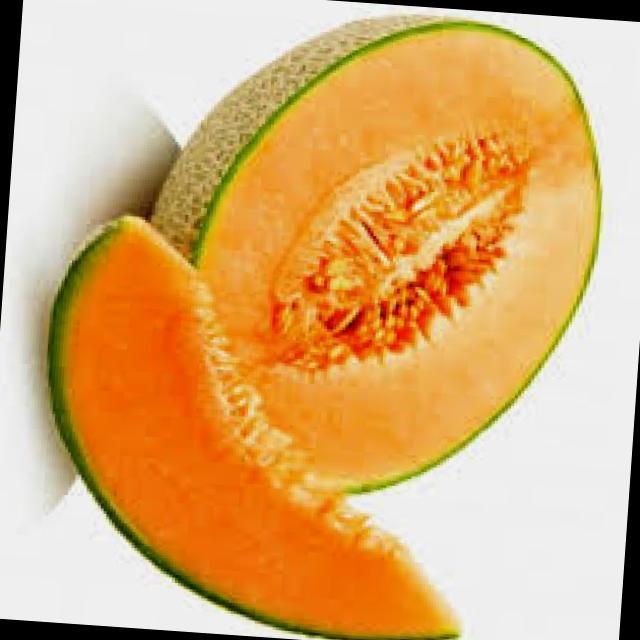cantaloupe: (131, 0, 614, 510), (23, 208, 489, 640)
